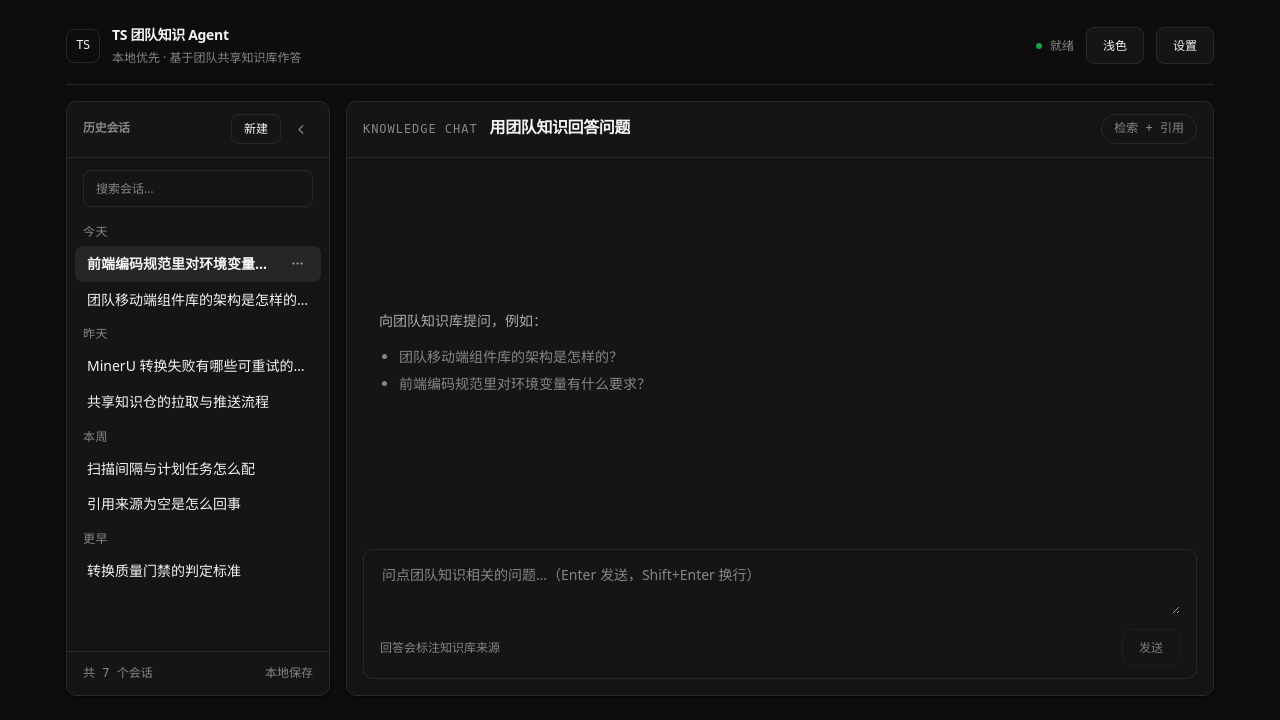
it: agent chat shell › deletes a session through the confirm dialog
Click the button with class "session-action": (297, 264) [285,252,309,276]
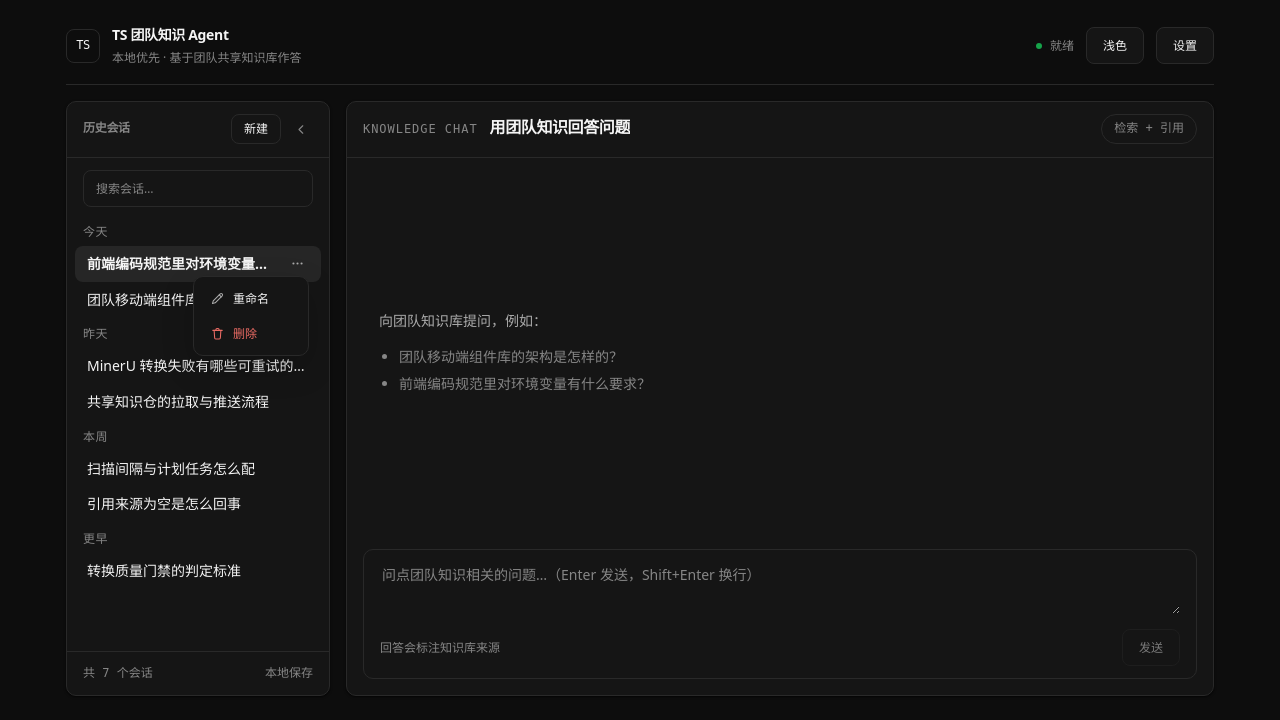
Click the menu item with class "is-danger": (251, 333) [198,316,304,351]
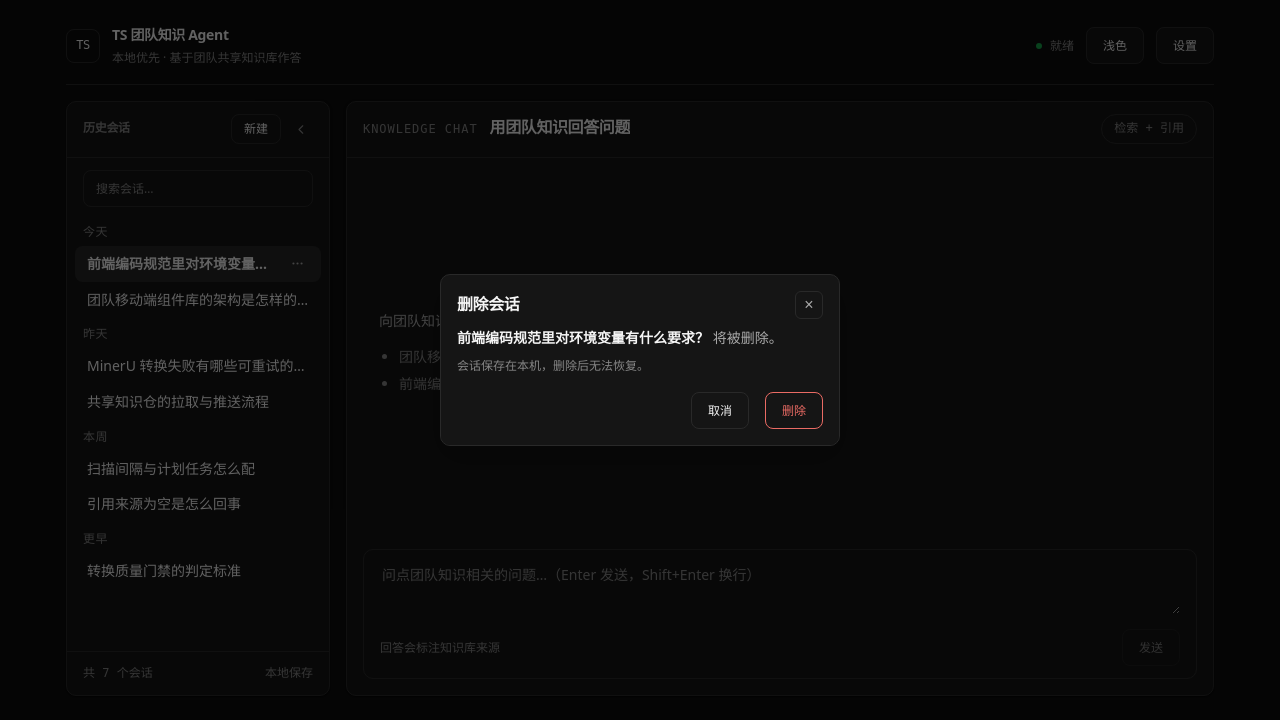
Check: the dialog with class "is-confirm" is shown, box [440,274,840,446]
Check: the element with class "confirm-text" shows "前端编码规范里对环境变量有什么要求？", box [457,328,709,347]
Click the button with class "confirm-delete": (794, 411) [765,392,823,429]
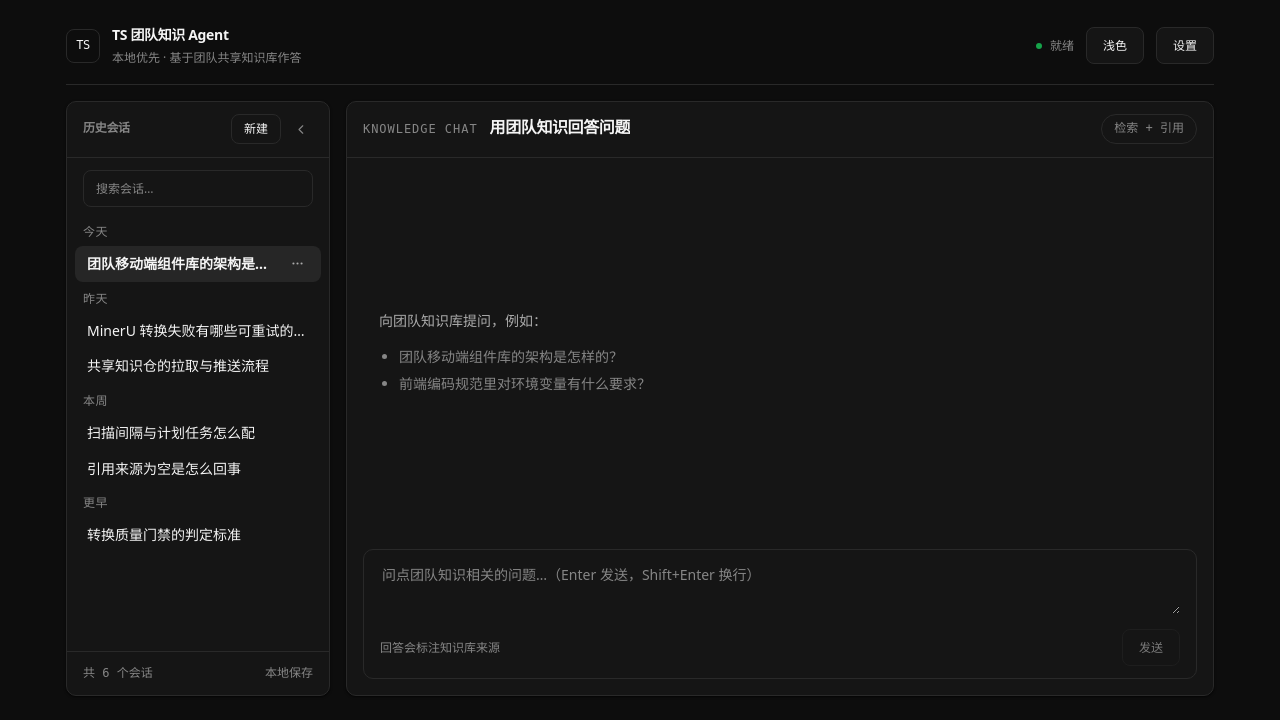
Check: the number of buttons with class "session-item" is 6, box [75,246,321,282]; [75,313,321,348]; [75,348,321,384]; [75,415,321,451]; [75,451,321,486]; [75,518,321,553]
Check: the dialog with class "is-confirm" is gone
